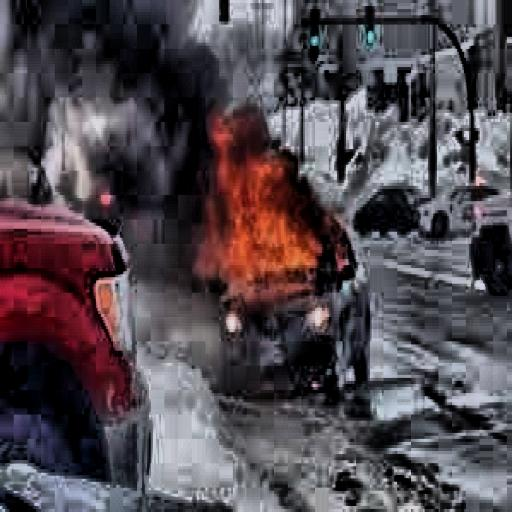fire: (192, 107, 363, 317)
